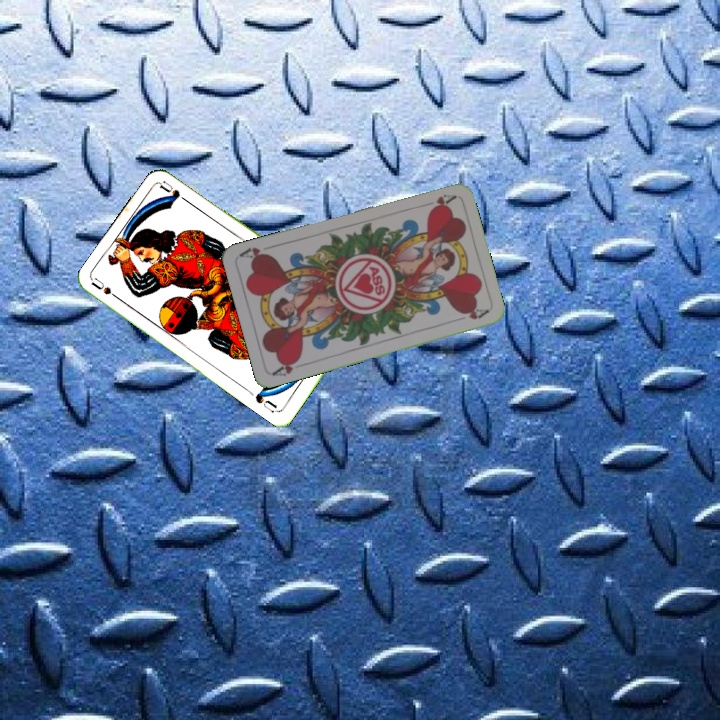HA: (269, 354, 308, 379), (418, 190, 458, 213)
SU: (88, 274, 126, 304)
